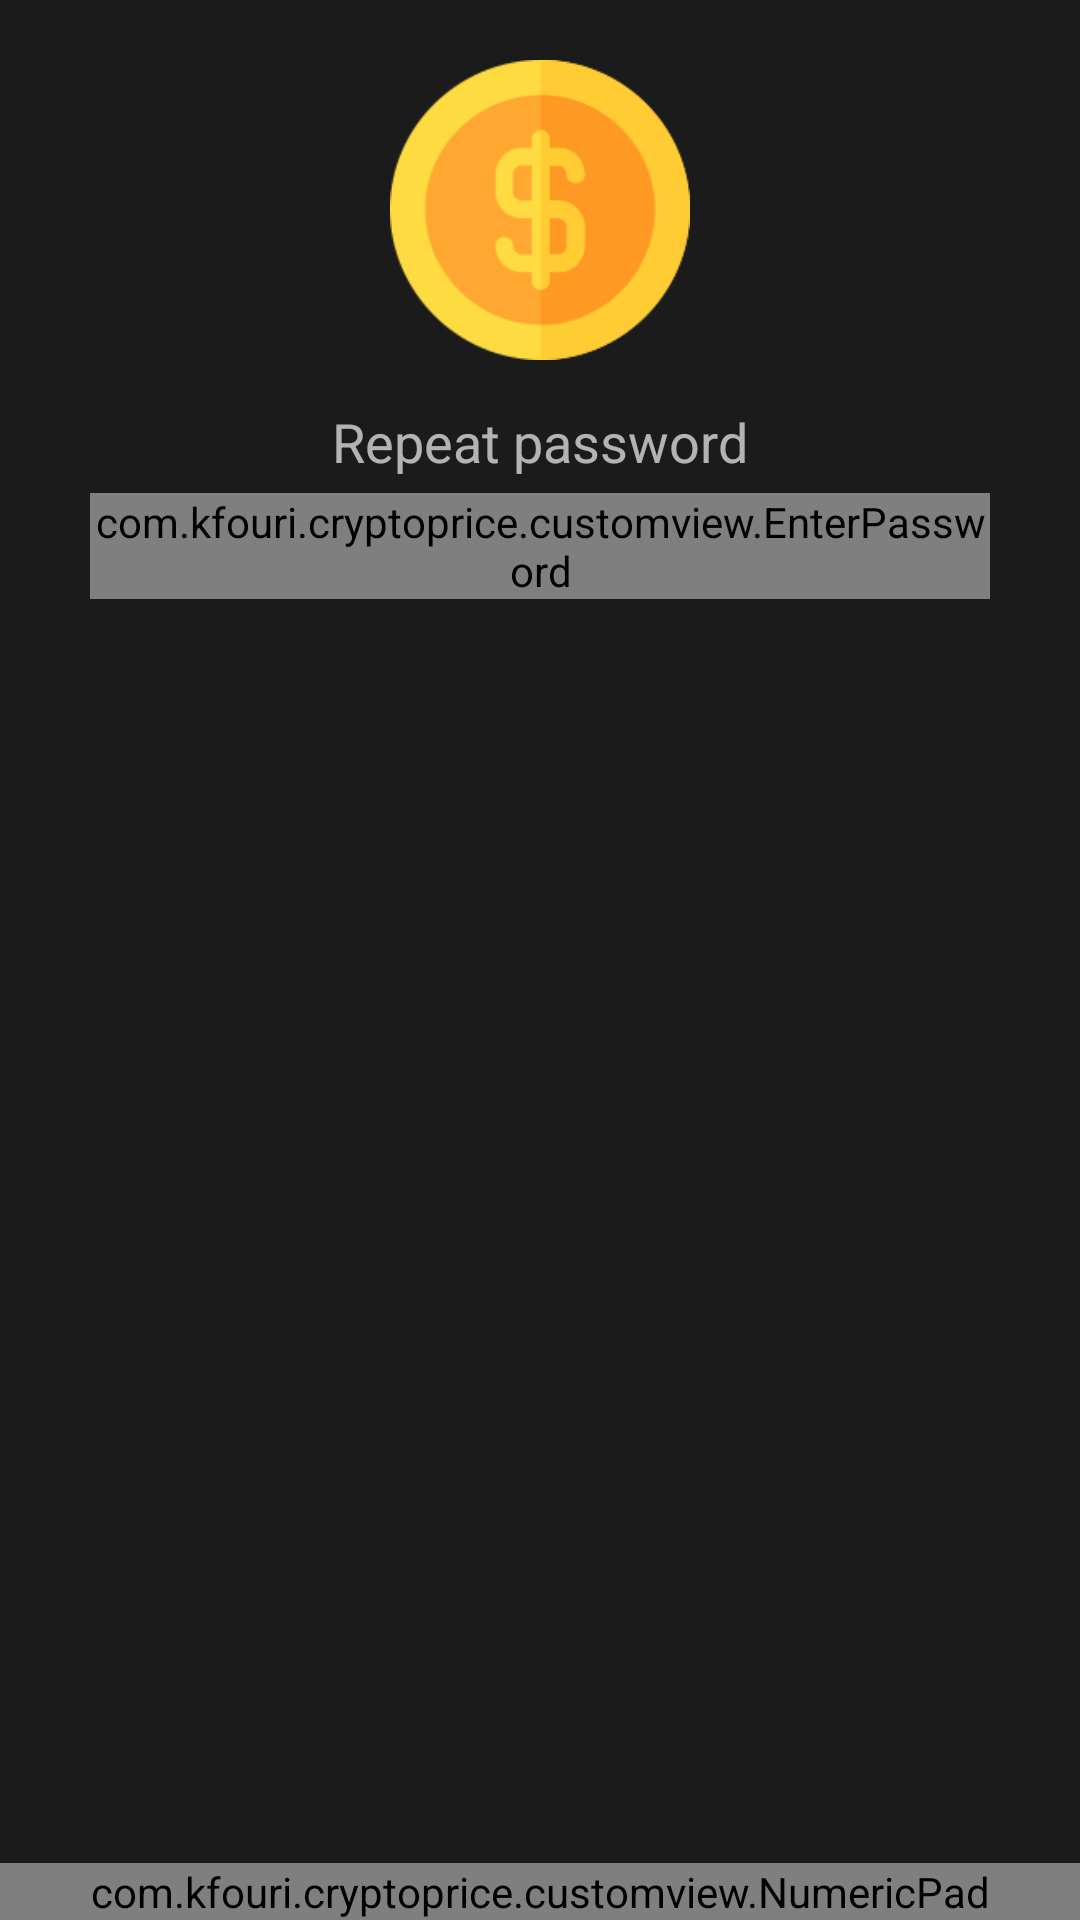

Icon click points for this 1080x1920 phone screenshot, format (x,y):
coin: (540,210)
